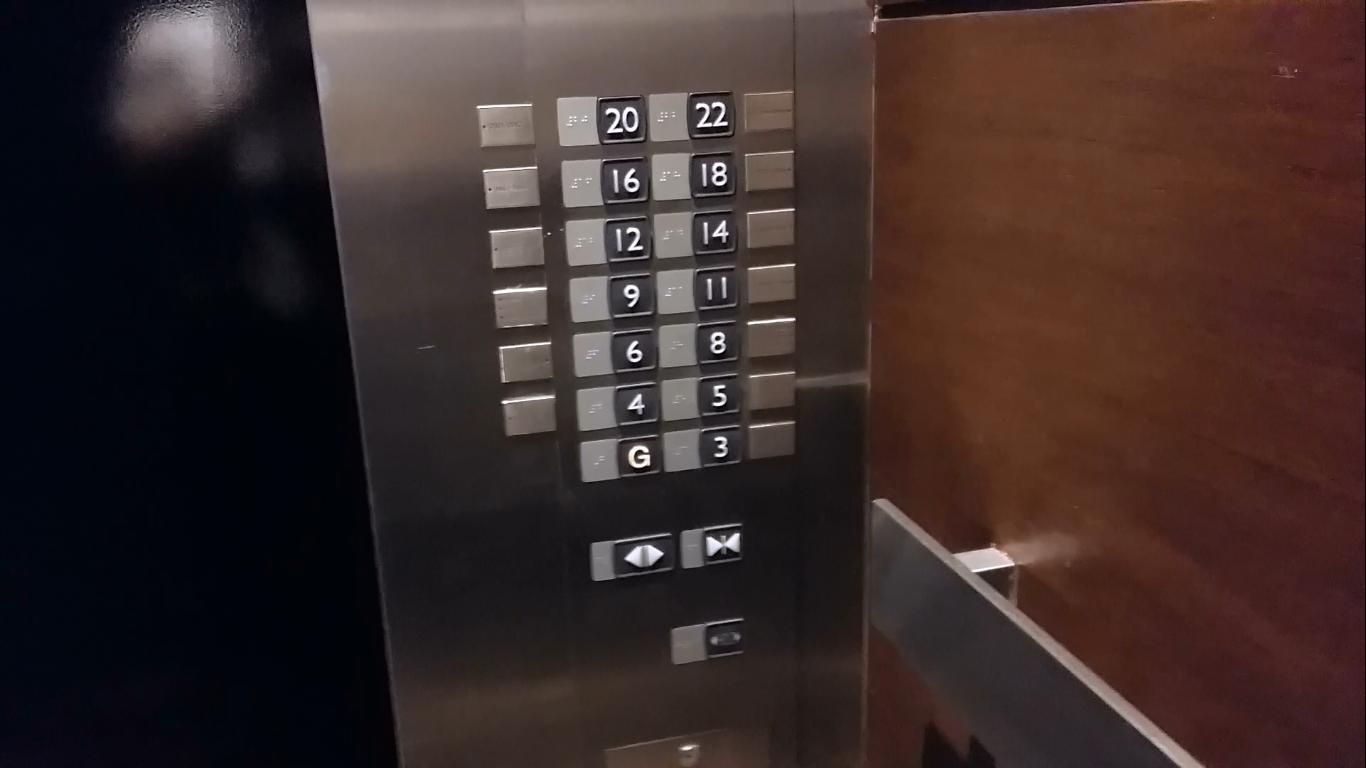11: (691, 263, 741, 311)
12: (602, 212, 655, 262)
14: (688, 206, 741, 256)
16: (599, 154, 652, 206)
18: (686, 148, 740, 198)
20: (594, 91, 651, 145)
22: (684, 87, 738, 139)
3: (696, 420, 744, 469)
4: (611, 378, 665, 429)
5: (695, 369, 745, 417)
6: (607, 324, 661, 374)
8: (691, 317, 743, 363)
9: (604, 269, 658, 319)
G: (615, 430, 667, 477)
close: (699, 519, 749, 567)
open: (609, 526, 676, 580)
unknown: (701, 614, 747, 661)
